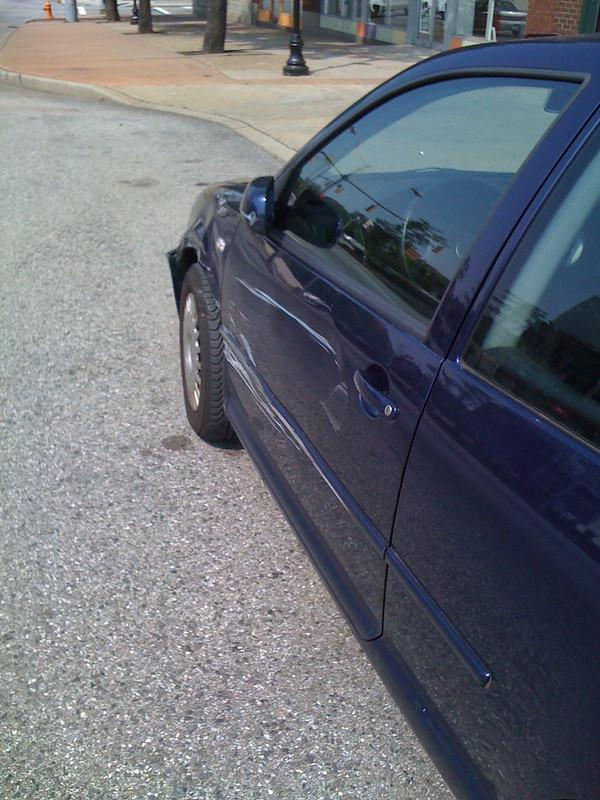doorouter-dent: (185, 210, 280, 434)
